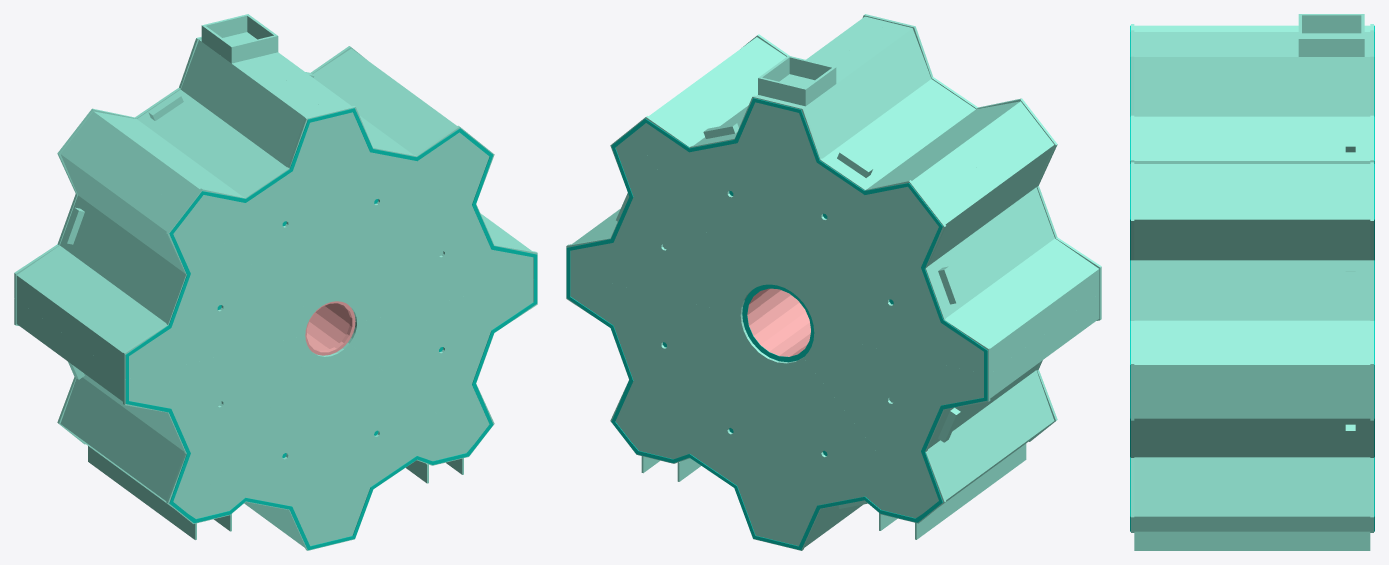
The model's file is End-Cap-Toroid-SideC-cut4.glb.
3 views of the same model, side by side, from view 1: azimuth 30°, elevation 25°; view 2: azimuth 150°, elevation 25°; view 3: azimuth 270°, elevation 25° (orthographic). The views are drawn at different scales.
Parts seen in each view (by area): view 1: S__0536A8B8, S__05CE1148, S__1F0C5598; view 2: S__0536A8B8, S__05CE1148, S__1F0C5598; view 3: S__0536A8B8, S__05CE1148.
Boxes of the visible parts, x1=… form: S__0536A8B8: x1=14, y1=14, x2=537, y2=550; S__05CE1148: x1=125, y1=108, x2=537, y2=550; S__1F0C5598: x1=305, y1=301, x2=355, y2=355; S__0536A8B8: x1=566, y1=14, x2=1101, y2=550; S__05CE1148: x1=566, y1=98, x2=987, y2=550; S__1F0C5598: x1=747, y1=288, x2=810, y2=356; S__0536A8B8: x1=1131, y1=14, x2=1373, y2=550; S__05CE1148: x1=1130, y1=25, x2=1374, y2=531.
Size of the model in its own units: 10.68 by 11.07 by 4.98.
